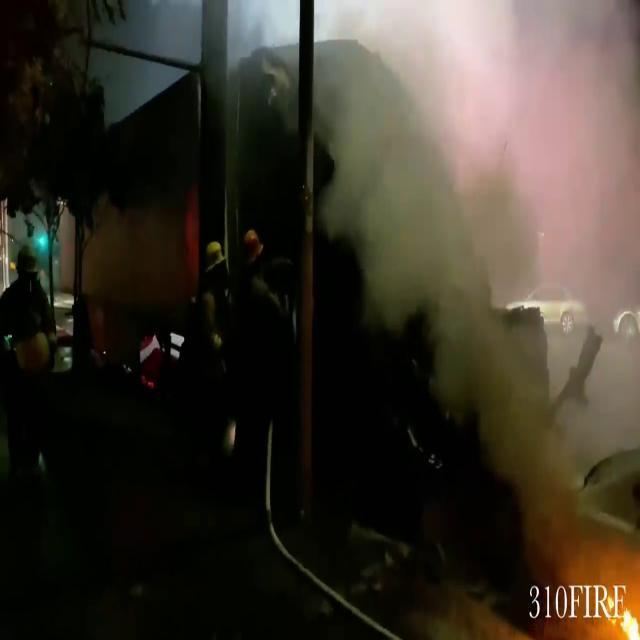Smoke: (320, 0, 640, 449)
